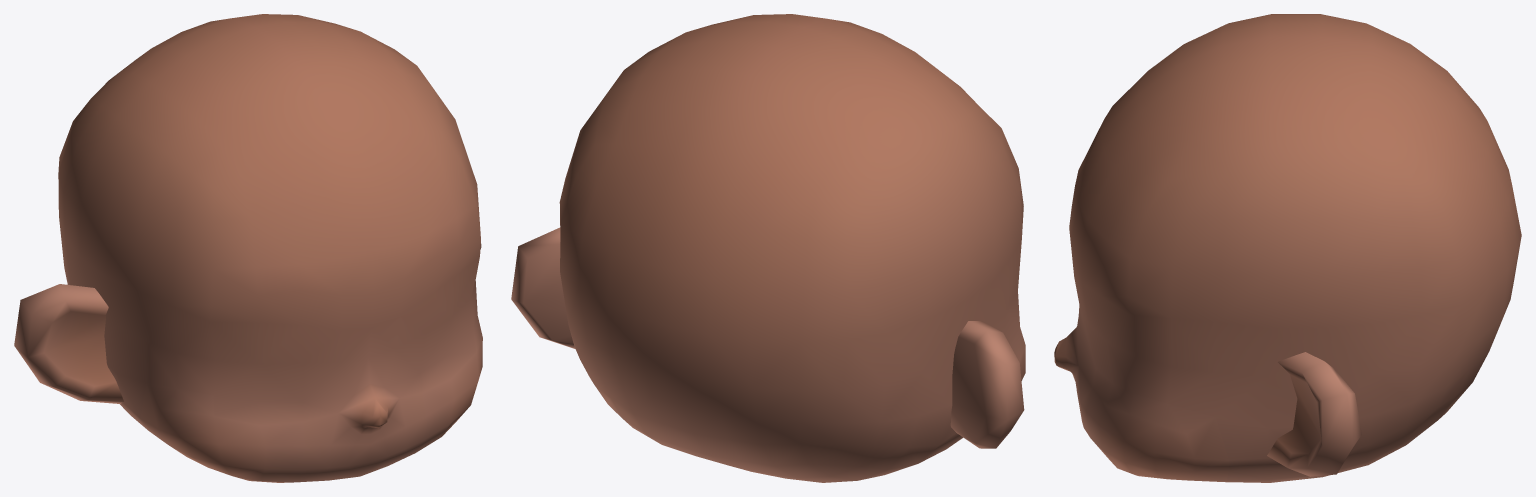
File: Body_Brown_Head_1.fbx
The picture shows the model from 3 angles, left to right: view 1: azimuth 30°, elevation 25°; view 2: azimuth 150°, elevation 25°; view 3: azimuth 270°, elevation 25°; orthographic projection. The views are drawn at different scales.
Parts seen in each view (by area): view 1: Body_Brown_Head_1; view 2: Body_Brown_Head_1; view 3: Body_Brown_Head_1.
Boxes of the visible parts, box(x1,y1,x2,y2) form: Body_Brown_Head_1: box(14, 14, 482, 482); Body_Brown_Head_1: box(511, 14, 1025, 482); Body_Brown_Head_1: box(1054, 14, 1521, 482).
Bounding box in the file's own units: 64.19 × 52.19 × 53.9.
